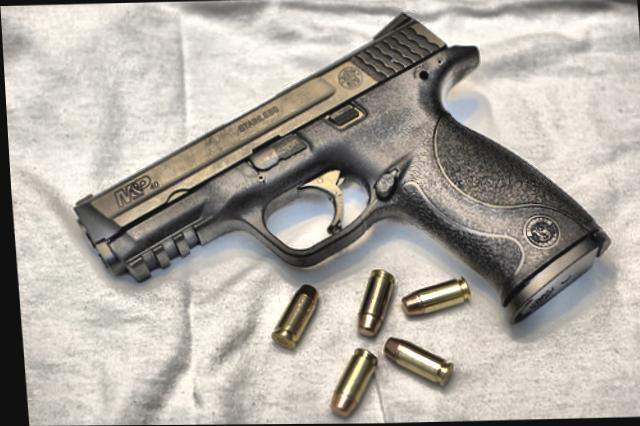pistol: (56, 6, 611, 340)
